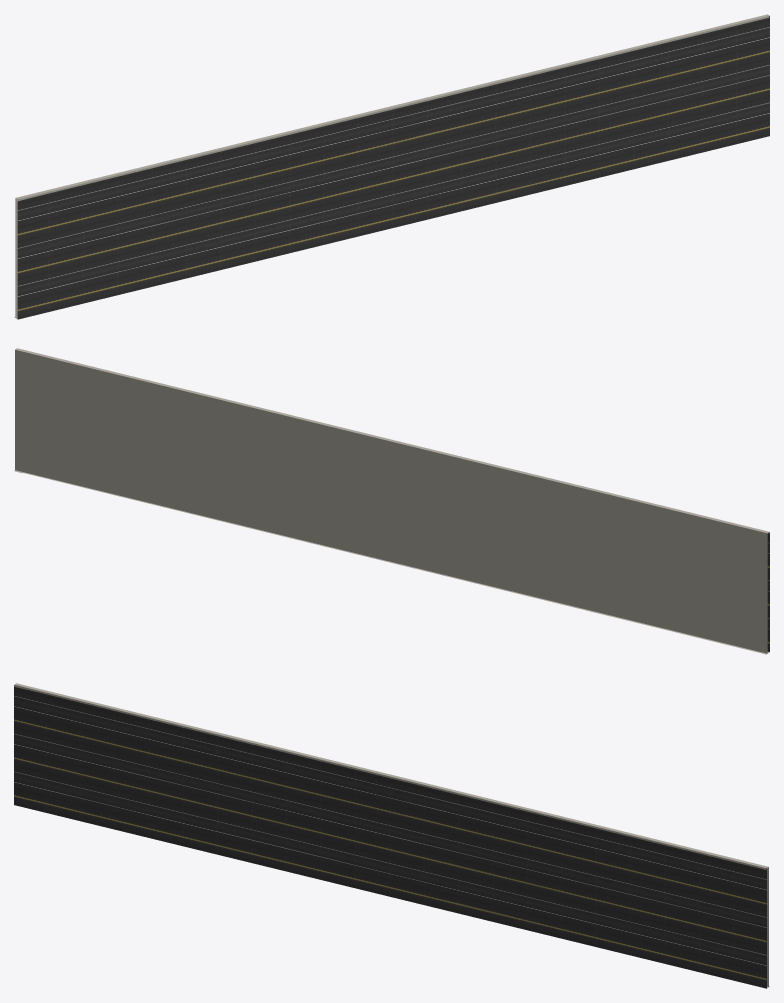
Rendered from deck_04.obj.
The picture shows the model from 3 angles, top to bottom: view 1: azimuth 30°, elevation 25°; view 2: azimuth 150°, elevation 25°; view 3: azimuth 330°, elevation 25°; orthographic projection.
Visible parts, largest first — view 1: _12, _8; view 2: _8; view 3: _12, _8.
Boxes of the visible parts, x1,y1,x2,y2 form: _12: [17, 16, 769, 319]; _8: [14, 14, 769, 319]; _8: [14, 348, 769, 654]; _12: [14, 686, 766, 988]; _8: [14, 683, 769, 988].
Size of the model in its own units: 35.88 by 5.48 by 0.311.
